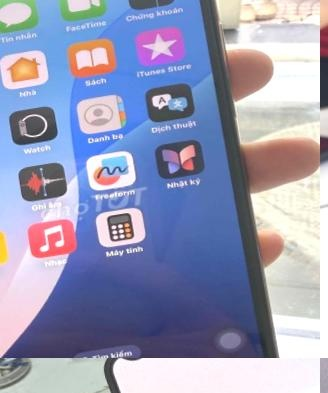screen_defect: (111, 358, 170, 380)
